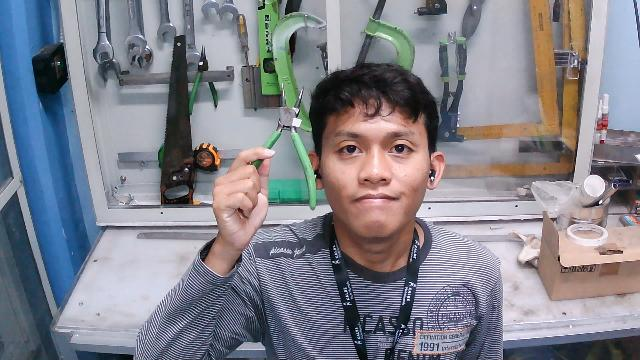tang_cucut_lancip_1: (229, 75, 330, 222)
